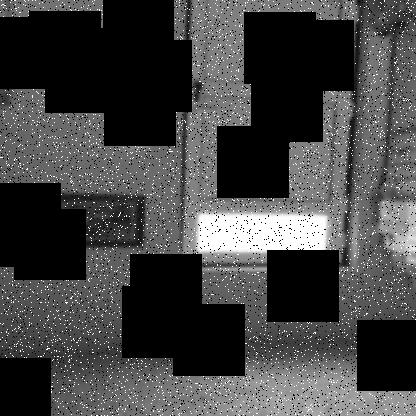Porte: (172, 1, 372, 273)
